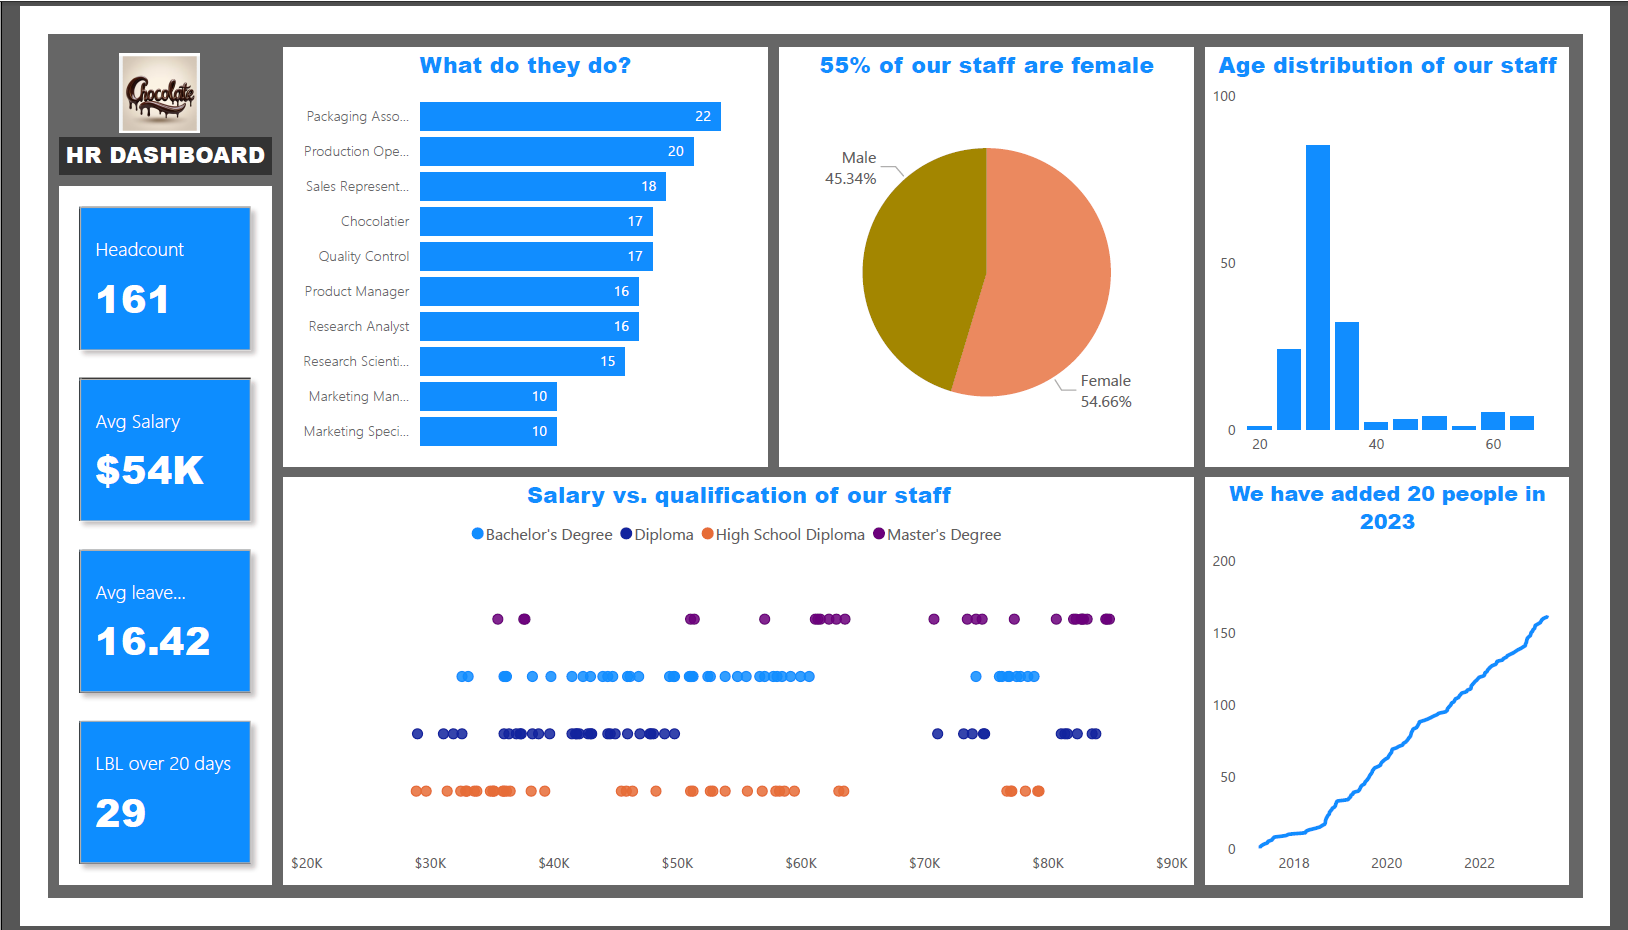

What the dashboard file says about the page in this screenshot:
{"tool":"powerbi","page":{"name":"Dashboard","canvas":[1280,720],"ordinal":9},"visuals":[{"type":"cardVisual","fields":{"Data":["Staff.Headcount","Staff.Avg Salary","Staff.Avg leave balance","Staff.LBL over 20 days"]},"box":[8.6,127.1,177.1,581.4],"z":0},{"type":"clusteredBarChart","title":"What do they do?","fields":{"Category":["Staff.Job Title"],"Y":["Staff.Headcount"]},"box":[195.7,11.4,404.3,348.6],"z":1000},{"type":"pieChart","title":"55% of our staff are female","fields":{"Category":["Staff.Gender"],"Y":["Staff.Headcount"]},"box":[610,11.4,345.7,348.6],"z":2000},{"type":"columnChart","title":"Age distribution of our staff","fields":{"Y":["Staff.Headcount"],"Category":["Staff.Age (bins)"]},"box":[965.7,11.4,302.9,348.6],"z":3000},{"type":"scatterChart","title":"Salary vs. qualification of our staff","fields":{"X":["Staff.Salary"],"Series":["Qual.Qualification"],"Y":["Qual.Qualification ID"]},"box":[195.7,370,760,338.6],"z":4000},{"type":"lineChart","title":"We have added 20 people in 2023","fields":{"Y":["Staff.Cumulative Headcount"],"Category":["Staff.Date of Join"]},"box":[965.7,370,302.9,338.6],"z":5000},{"type":"image","box":[8.6,11.4,167.1,75.7],"z":6000},{"type":"textbox","title":"HR DASHBOARD","box":[8.6,85.7,177.1,31.4],"z":7000}]}

Visuals, with their boxes in screenshot pixels (x1, y1, x2, y2), scaled from the page's 1280x720 canvas onto the 1628x930 screenshot:
cardVisual - Staff.Headcount x Staff.Avg Salary: <region>11, 164, 236, 915</region>
"What do they do?" clusteredBarChart: <region>249, 15, 763, 465</region>
"55% of our staff are female" pieChart: <region>776, 15, 1216, 465</region>
"Age distribution of our staff" columnChart: <region>1228, 15, 1614, 465</region>
"Salary vs. qualification of our staff" scatterChart: <region>249, 478, 1216, 915</region>
"We have added 20 people in 2023" lineChart: <region>1228, 478, 1614, 915</region>
image: <region>11, 15, 223, 113</region>
"HR DASHBOARD" textbox: <region>11, 111, 236, 151</region>
